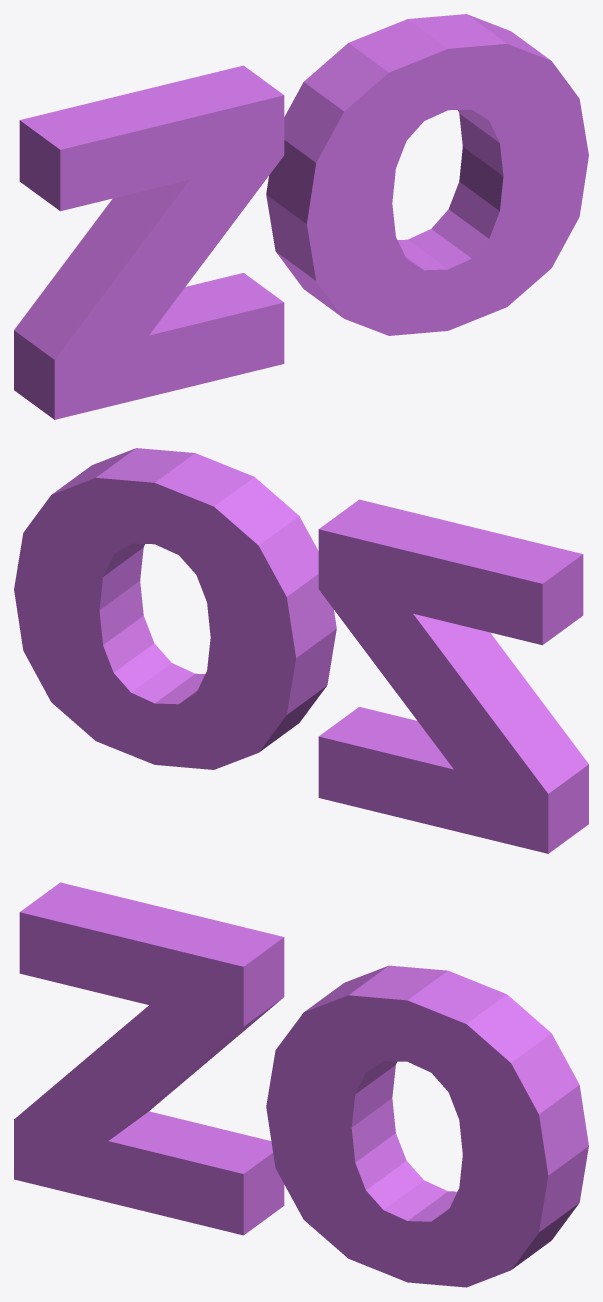
File: suku_kecil_zo.glb
The picture shows the model from 3 angles, top to bottom: view 1: azimuth 30°, elevation 25°; view 2: azimuth 150°, elevation 25°; view 3: azimuth 330°, elevation 25°; orthographic projection.
Parts seen in each view (by area): view 1: geometry_0; view 2: geometry_0; view 3: geometry_0.
Part boxes in pixels (left/top/right/bottom): geometry_0: left=14, top=14, right=588, bottom=419; geometry_0: left=14, top=448, right=588, bottom=853; geometry_0: left=14, top=882, right=588, bottom=1287.
Bounding box in the file's own units: 11.38 × 5.74 × 1.5.
